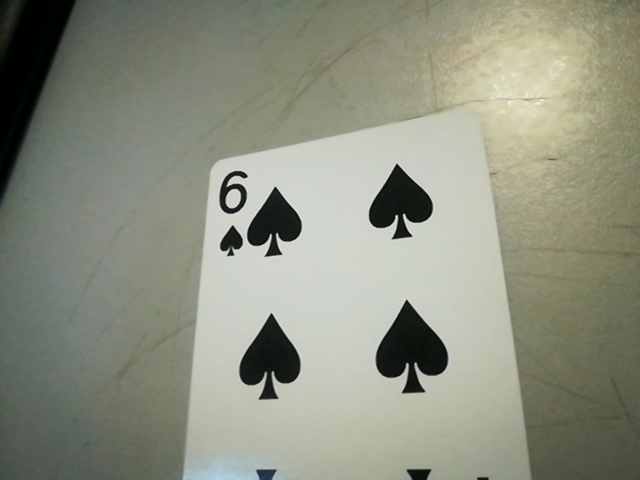ht 6: (205, 163, 258, 258)
